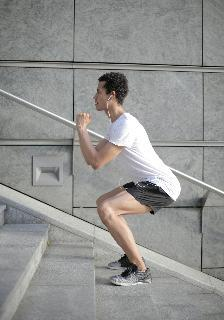person - v3 P: (76, 72, 180, 285)
